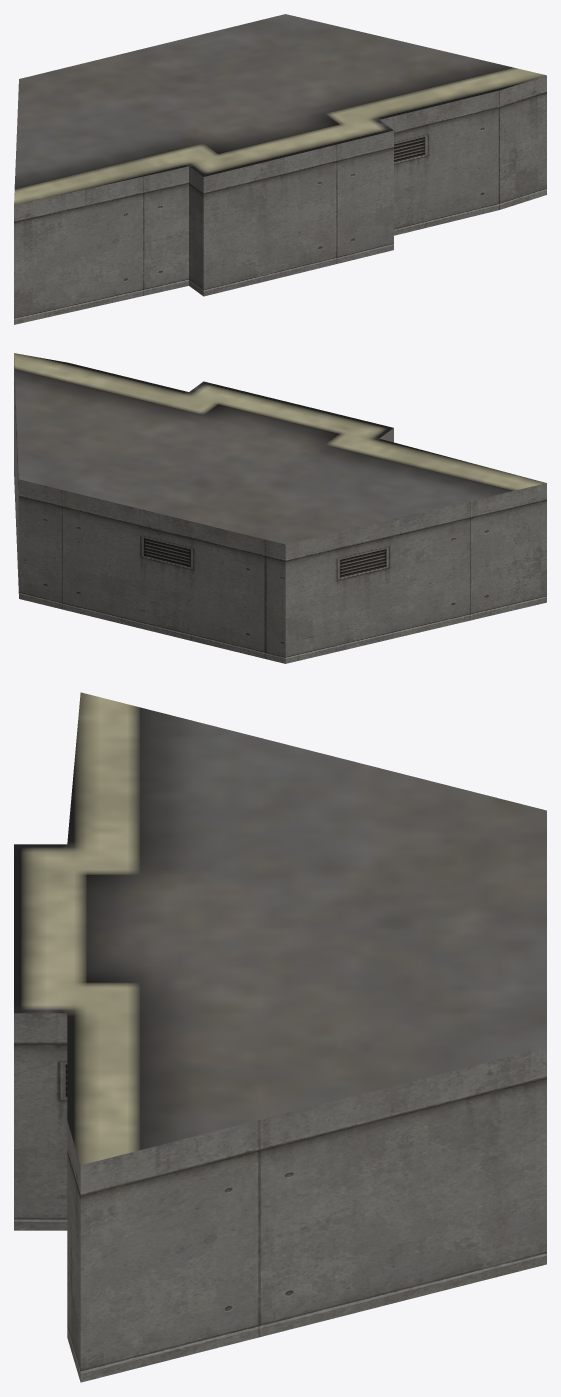
Rendered from building_medium_64.glb.
3 views of the same model, one above another, from view 1: azimuth 30°, elevation 25°; view 2: azimuth 150°, elevation 25°; view 3: azimuth 270°, elevation 25° (orthographic). The views are drawn at different scales.
Parts seen in each view (by area): view 1: buildings/saxarba/building_medium/building_medium_64; view 2: buildings/saxarba/building_medium/building_medium_64; view 3: buildings/saxarba/building_medium/building_medium_64.
Boxes of the visible parts, left/top/right/bottom form: buildings/saxarba/building_medium/building_medium_64: left=14, top=14, right=546, bottom=324; buildings/saxarba/building_medium/building_medium_64: left=14, top=353, right=546, bottom=663; buildings/saxarba/building_medium/building_medium_64: left=14, top=692, right=546, bottom=1382.
Bounding box in the file's own units: 84 × 18 × 40.
